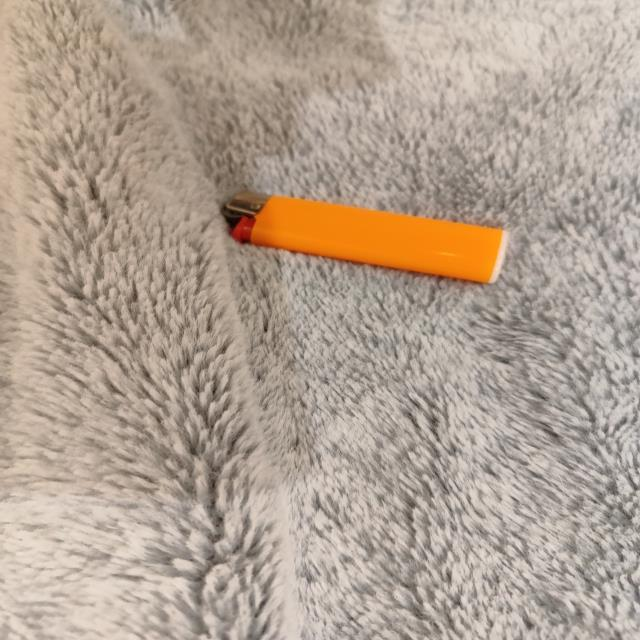lighter: (223, 192, 505, 283)
